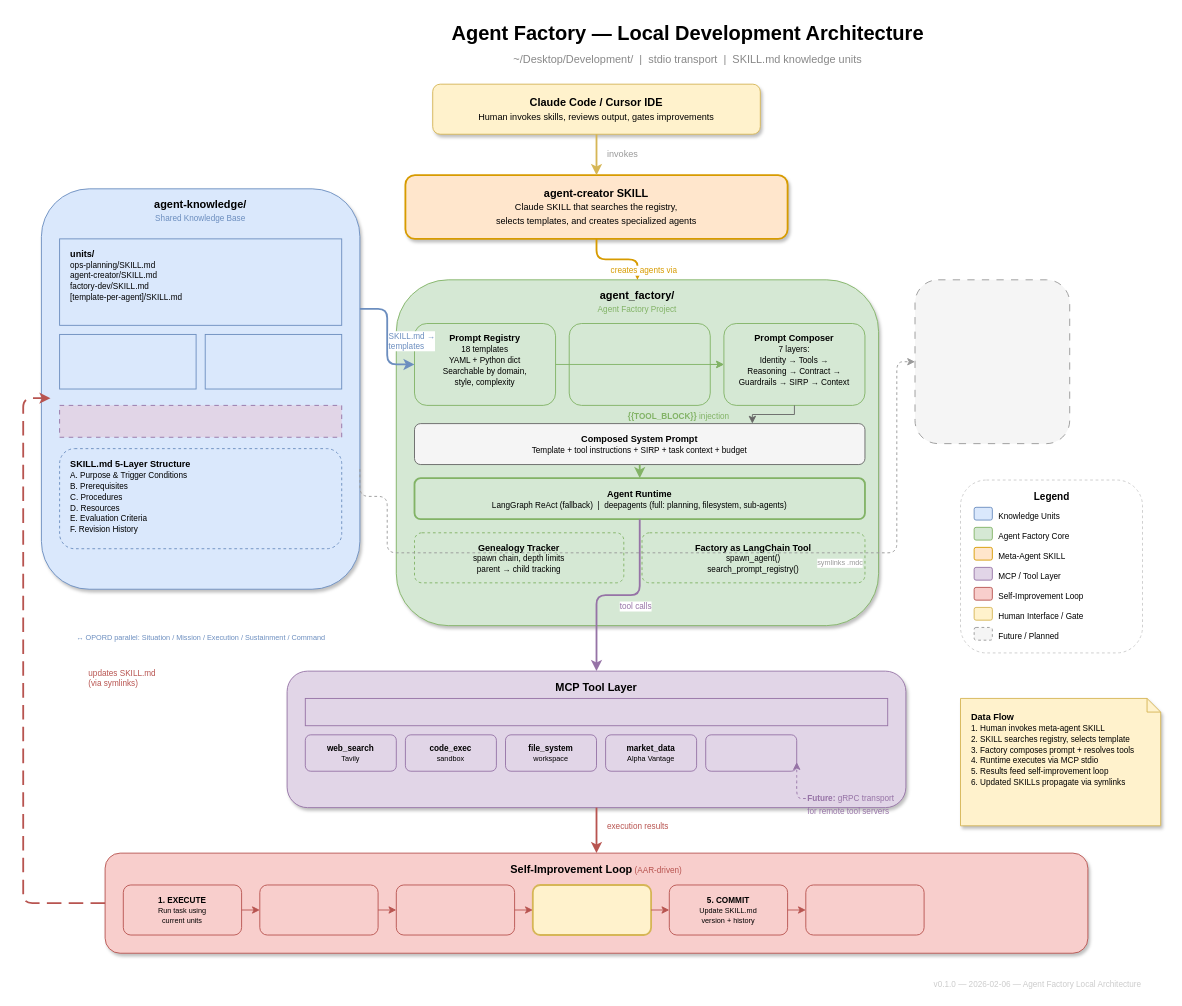
The diagram is 1182 pixels wide and 1006 high, and some of its shapes have lost their labels. Each missing label, with the centre of its shape:
"2. EVALUATE Self-assess vs Section E criteria" belongs at [318,909].
"3. PROPOSE Draft SKILL.md revision + diff" belongs at [455,909].
"4. HUMAN GATE Review & approve or reject" belongs at [591,909].
"6. PROPAGATE Symlinks update all linked projects" belongs at [864,909].
"arxiv_mcp papers" belongs at [751,752].
"Each unit generates a CURSOR.mdc adapter" belongs at [200,420].
"loop/ aar-template.md" belongs at [273,361].
"Other Projects FALCON Teams Everwood Doppelganger Symlinked .mdc rules from KB" belongs at [992,361].
"scripts/ generate_cursor_rule.sh sync_to_project.sh" belongs at [127,361].
"stdio transport (local process communication)" belongs at [596,712].
"Tool Registry MCP servers LangChain tools Functions prompt_instructions" belongs at [639,364].
